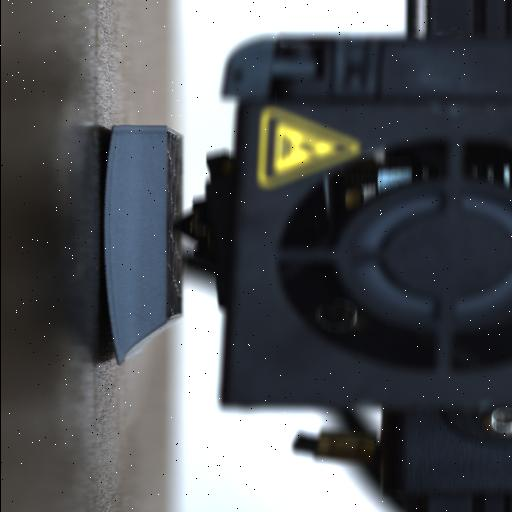warp: (99, 312, 131, 370), (100, 118, 124, 146)
